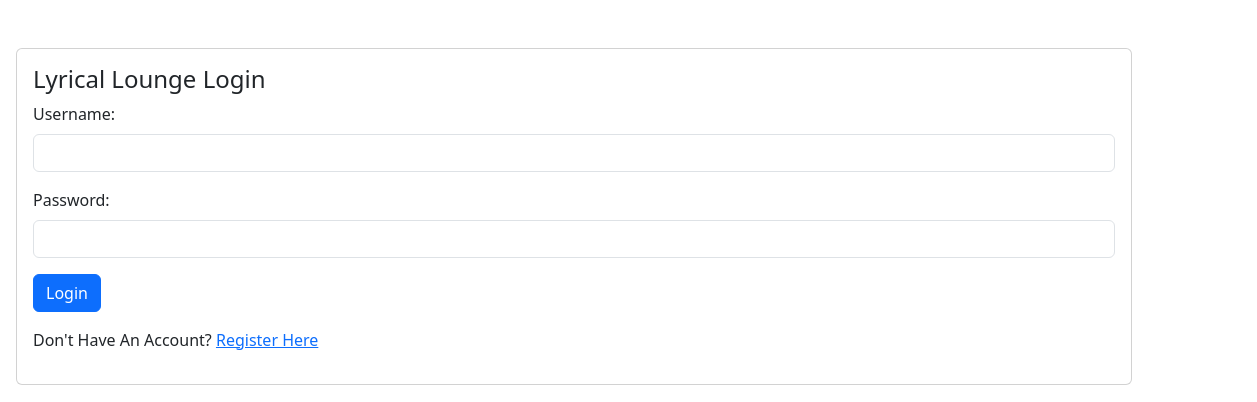
Login Page Rendering › Displays error message for incorrect login
The image size is (1257, 402).
In the field labelled "Username:": coordinates (574, 153) [33,134,1115,172], type "incorrectUser"
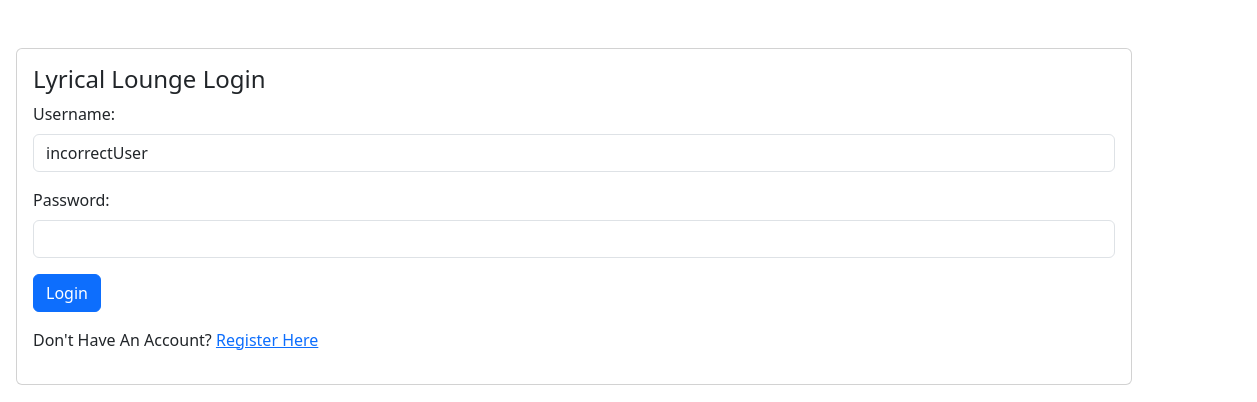
Submit the form from the button "Login", box [33,274,101,312]
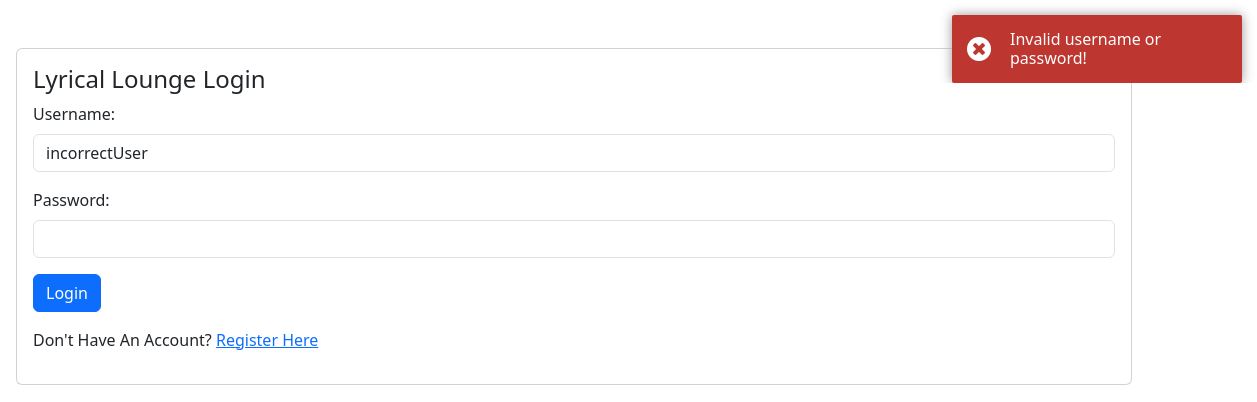
Expected: the text "Invalid username or password!" is shown, [1010,28,1161,69]
